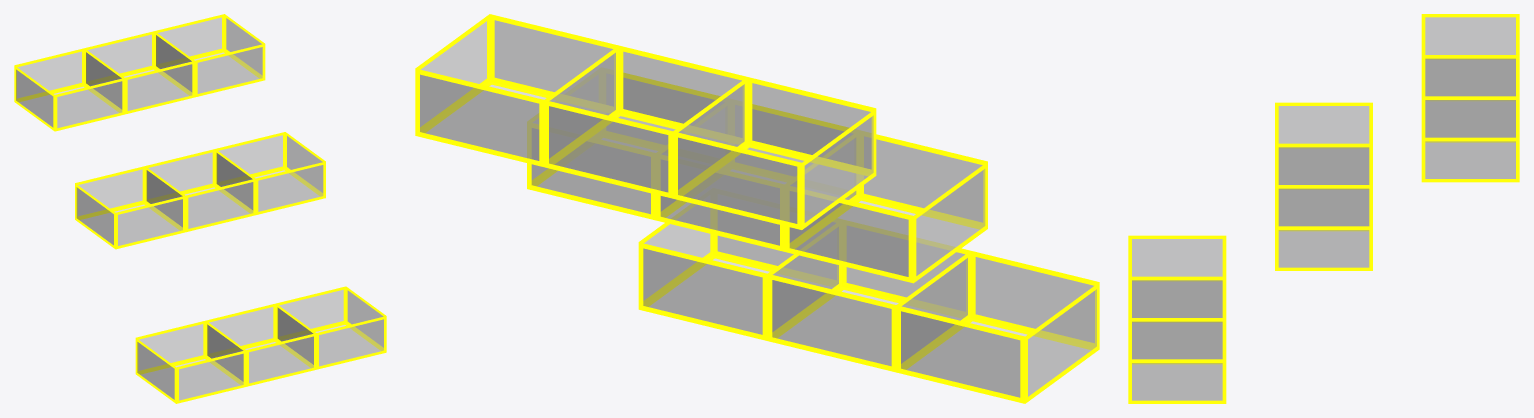
File: (2)M GPlat.fbx
The picture shows the model from 3 angles, left to right: view 1: azimuth 30°, elevation 25°; view 2: azimuth 150°, elevation 25°; view 3: azimuth 270°, elevation 25°; orthographic projection. The views are drawn at different scales.
Parts seen in each view (by area): view 1: Platform.002, Platform.009, Platform.005, Platform.006, Platform.004, Platform.011, Platform.007, Platform.003, Platform.010; view 2: Platform.009, Platform.002, Platform.011, Platform.010, Platform.005, Platform.003, Platform.004, Platform.006, Platform.007; view 3: Platform.011, Platform.002, Platform.004, Platform.009, Platform.005, Platform.007, Platform.006, Platform.010, Platform.003.
Part boxes in pixels (box(x1,y1,x2,y2)): Platform.002: box(135, 320, 246, 403); Platform.009: box(14, 48, 124, 131); Platform.005: box(75, 166, 185, 249); Platform.006: box(145, 149, 255, 232); Platform.004: box(276, 286, 386, 369); Platform.011: box(154, 14, 265, 97); Platform.007: box(215, 132, 325, 214); Platform.003: box(206, 303, 316, 386); Platform.010: box(84, 31, 194, 114); Platform.009: box(673, 77, 876, 229); Platform.002: box(896, 251, 1099, 403); Platform.011: box(415, 14, 618, 166); Platform.010: box(544, 45, 747, 198); Platform.005: box(784, 130, 987, 283); Platform.003: box(767, 220, 970, 372); Platform.004: box(638, 204, 841, 340); Platform.006: box(656, 104, 858, 251); Platform.007: box(527, 73, 720, 220); Platform.011: box(1421, 96, 1519, 182); Platform.002: box(1128, 235, 1226, 318); Platform.004: box(1128, 318, 1226, 403); Platform.009: box(1421, 14, 1519, 96); Platform.005: box(1275, 102, 1372, 185); Platform.007: box(1275, 185, 1372, 270); Platform.006: box(1275, 144, 1372, 226); Platform.010: box(1421, 55, 1519, 137); Platform.003: box(1128, 277, 1226, 359).
Size of the model in its own units: 600 by 600 by 800.
